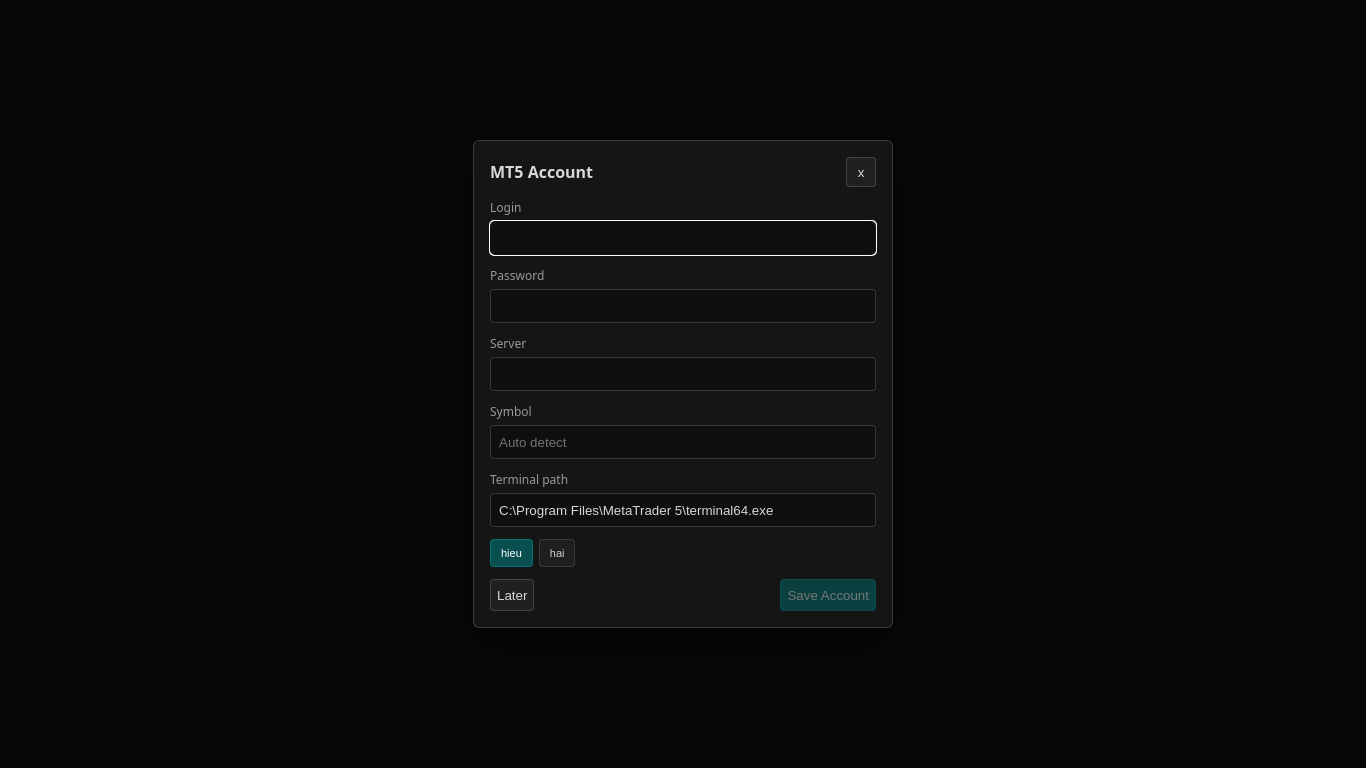
Scenario: Mt5AccountDialog › selects a user terminal path without replacing login or server
Type "257101455" into the field labelled "Login" at (683, 238), box top-left (490, 221), bottom-right (876, 255)
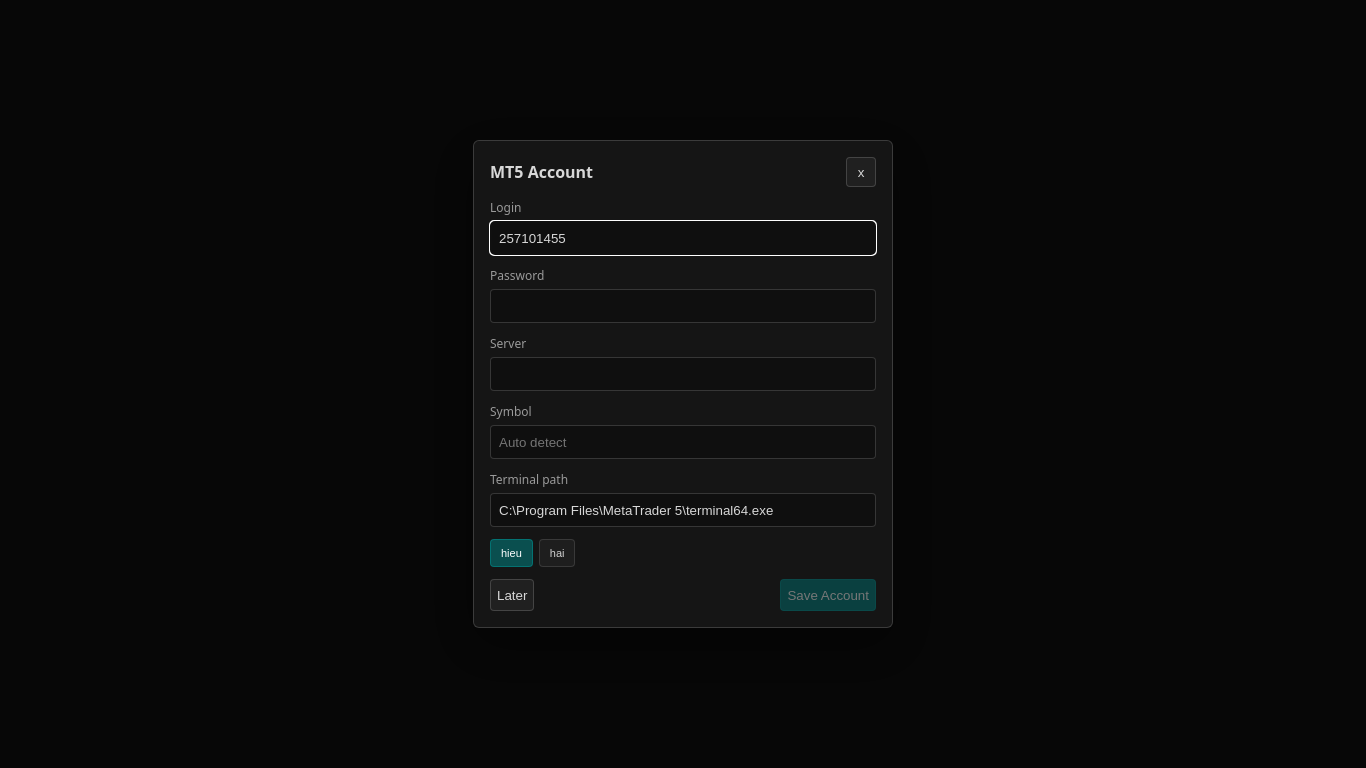
Type "Exness-MT5Real36" into the field labelled "Server" at (683, 374), box top-left (490, 357), bottom-right (876, 391)
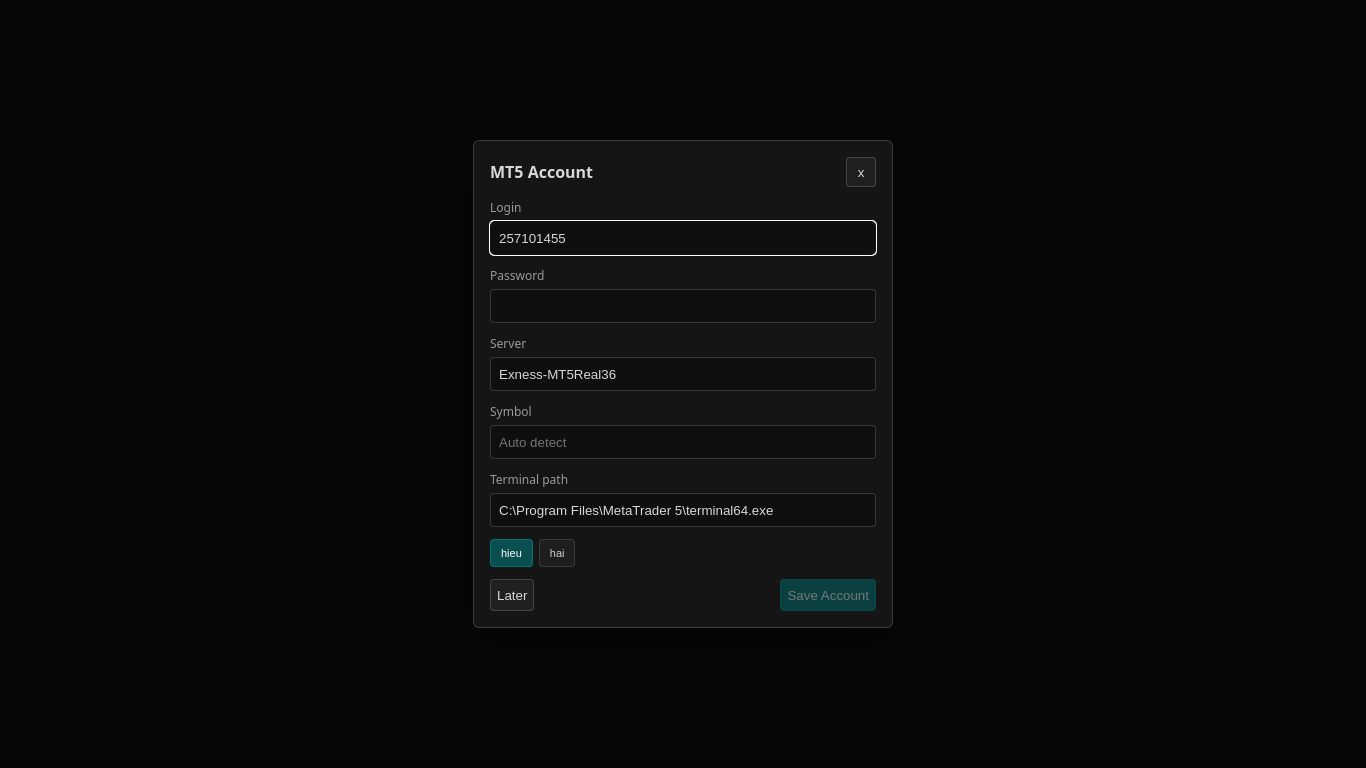
Click the button "hai" at (557, 553), box top-left (539, 539), bottom-right (576, 567)
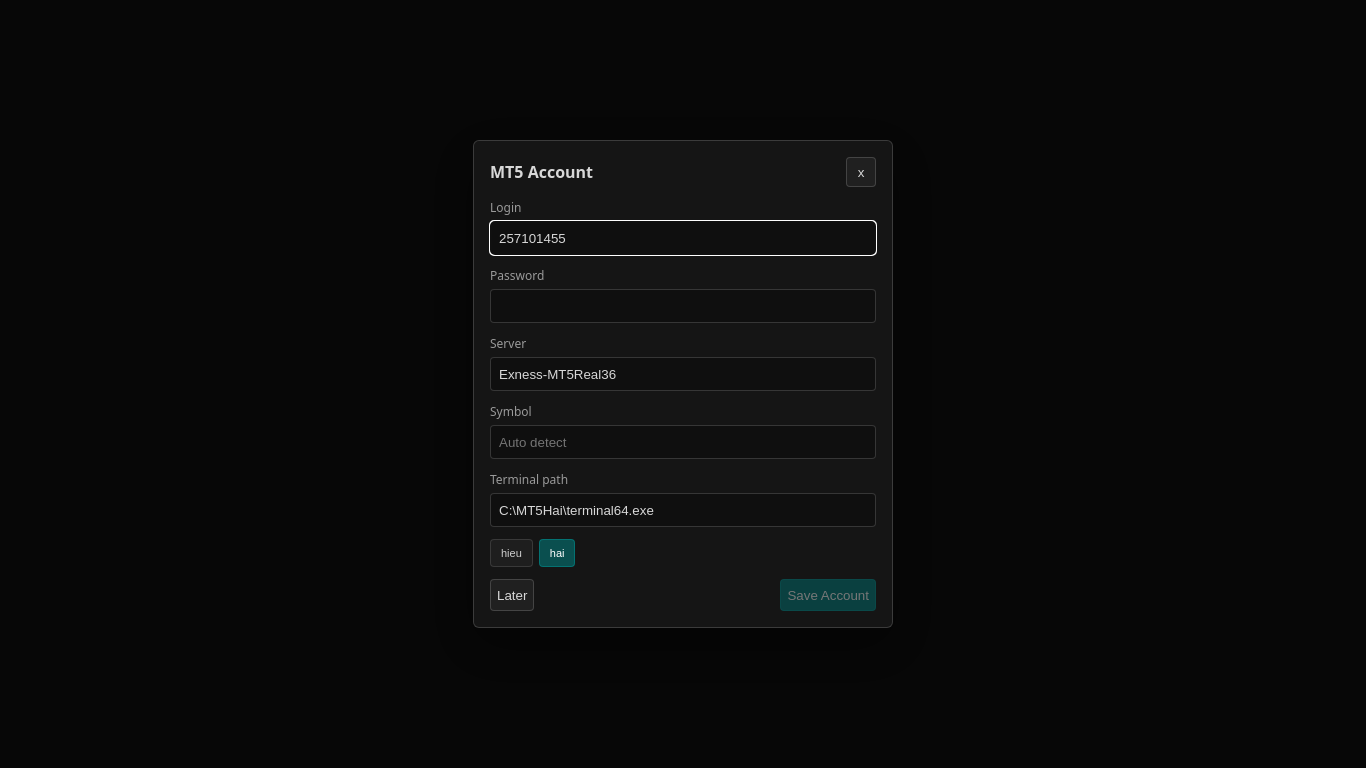
Check: the field labelled "Terminal path" holds "C:\\MT5Hai\\terminal64.exe", box top-left (490, 493), bottom-right (876, 527)
Click the button "hieu" at (511, 553), box top-left (490, 539), bottom-right (533, 567)
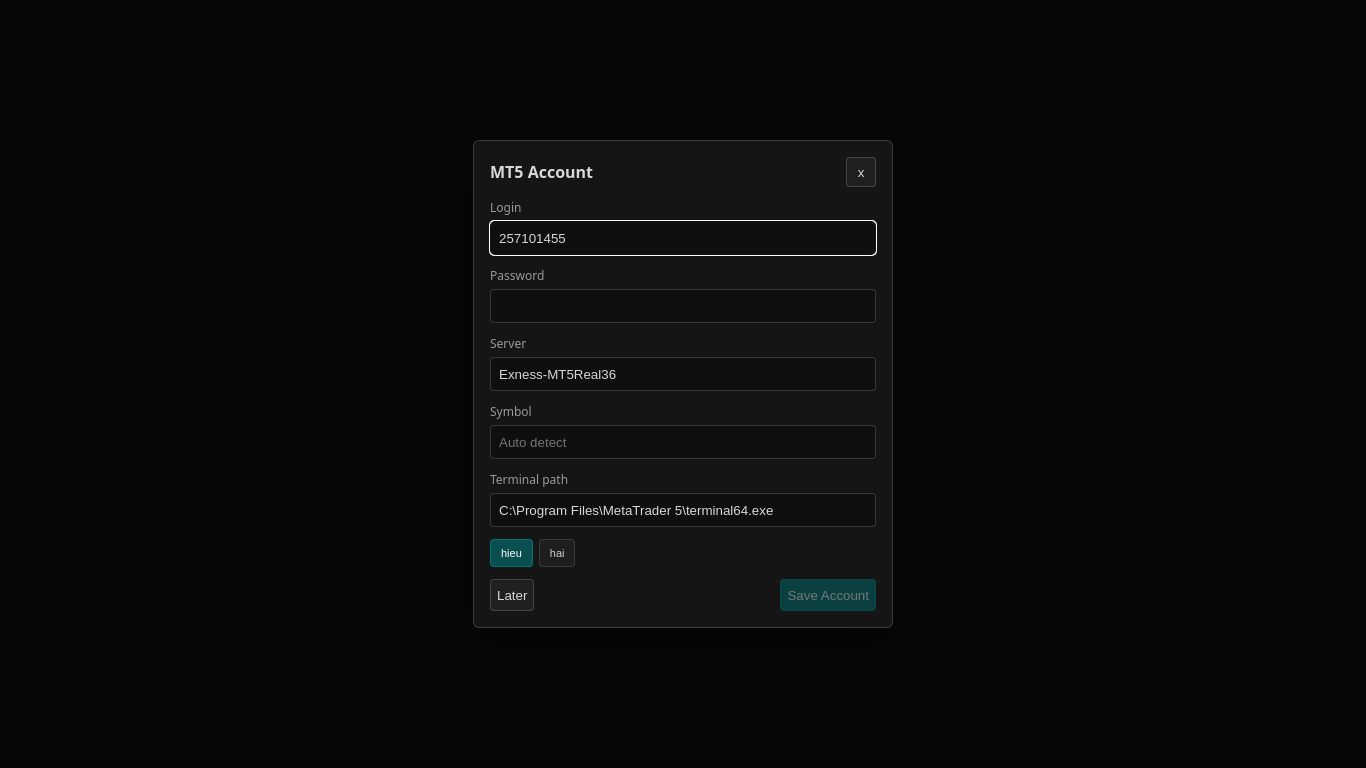
Check: the field labelled "Terminal path" holds "C:\\Program Files\\MetaTrader 5\\terminal64.exe", box top-left (490, 493), bottom-right (876, 527)
